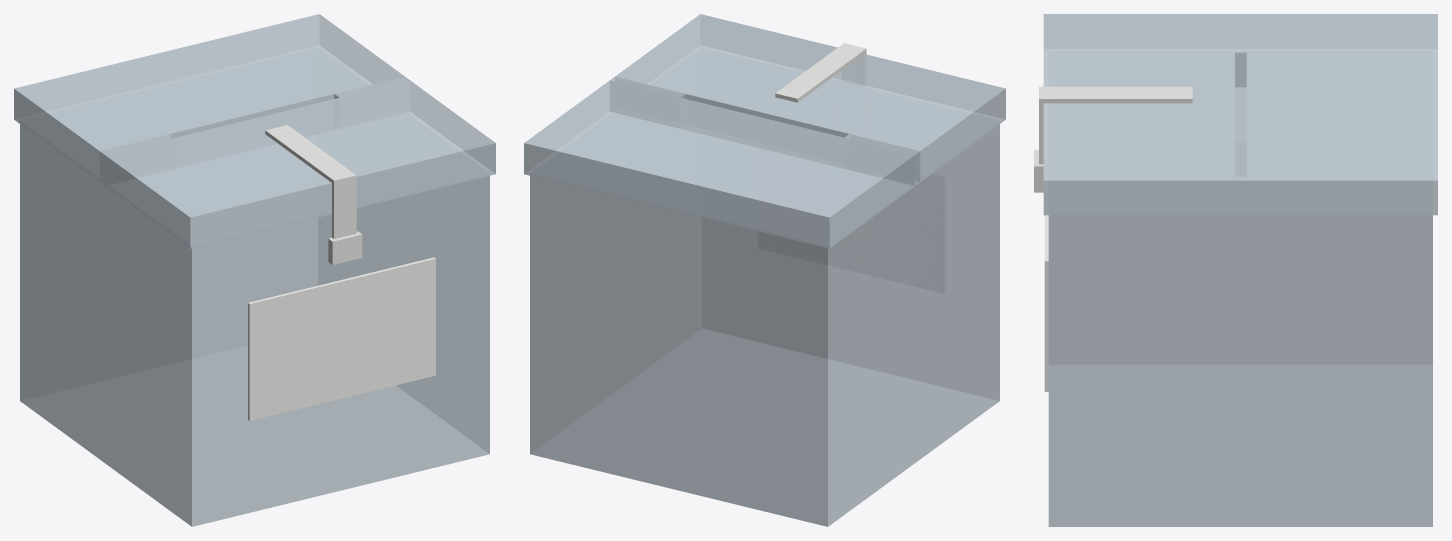
The model's file is ballot-box.glb.
3 views of the same model, side by side, from view 1: azimuth 30°, elevation 25°; view 2: azimuth 150°, elevation 25°; view 3: azimuth 270°, elevation 25° (orthographic). The views are drawn at different scales.
Parts seen in each view (by area): view 1: BallotBox; view 2: BallotBox; view 3: BallotBox.
Part boxes in pixels (<box>): BallotBox: <box>14,14,495,526</box>; BallotBox: <box>524,14,1005,526</box>; BallotBox: <box>1034,14,1437,526</box>.
Bounding box in the file's own units: 0.41 × 0.405 × 0.42.
